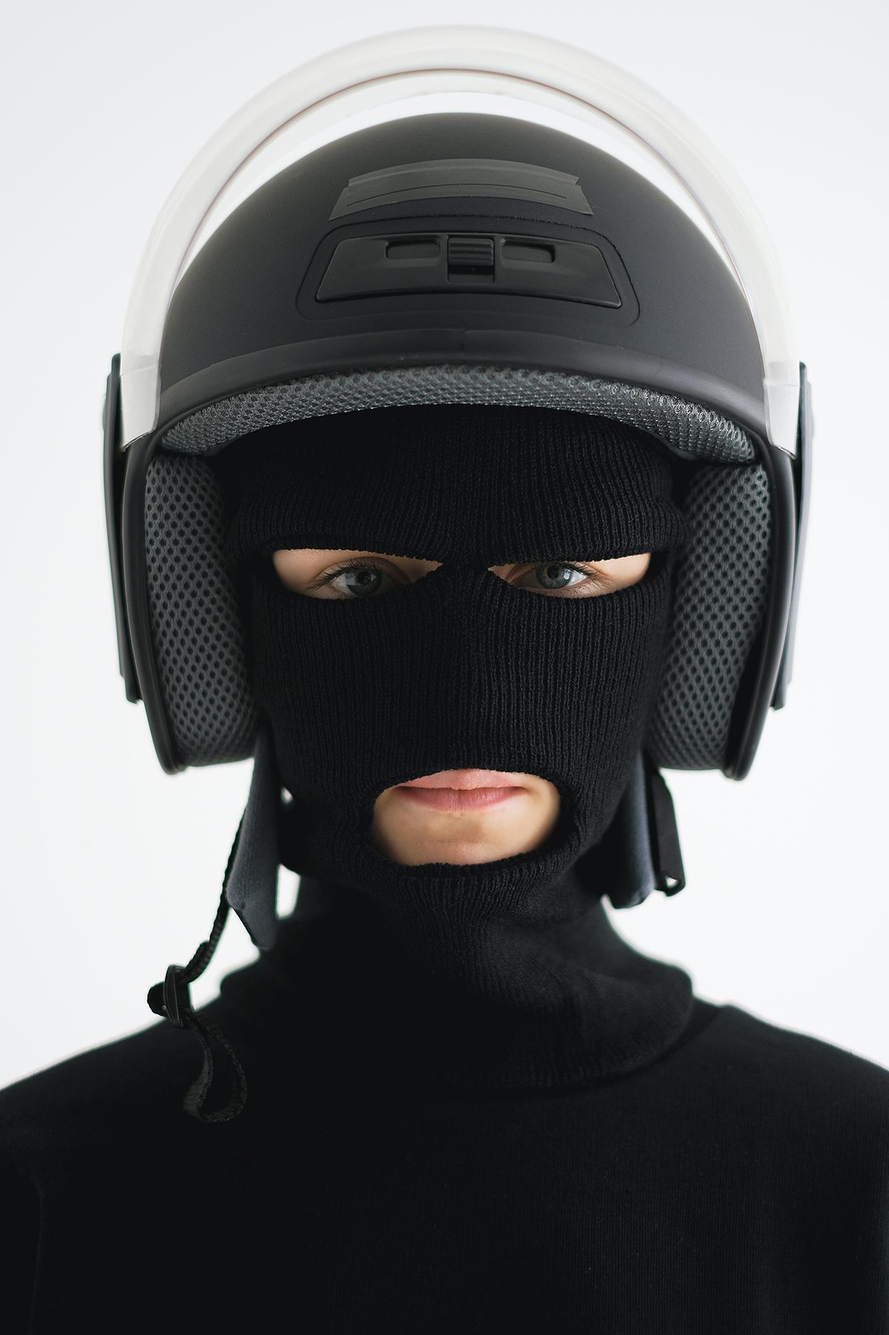helmet: (98, 17, 820, 1130)
